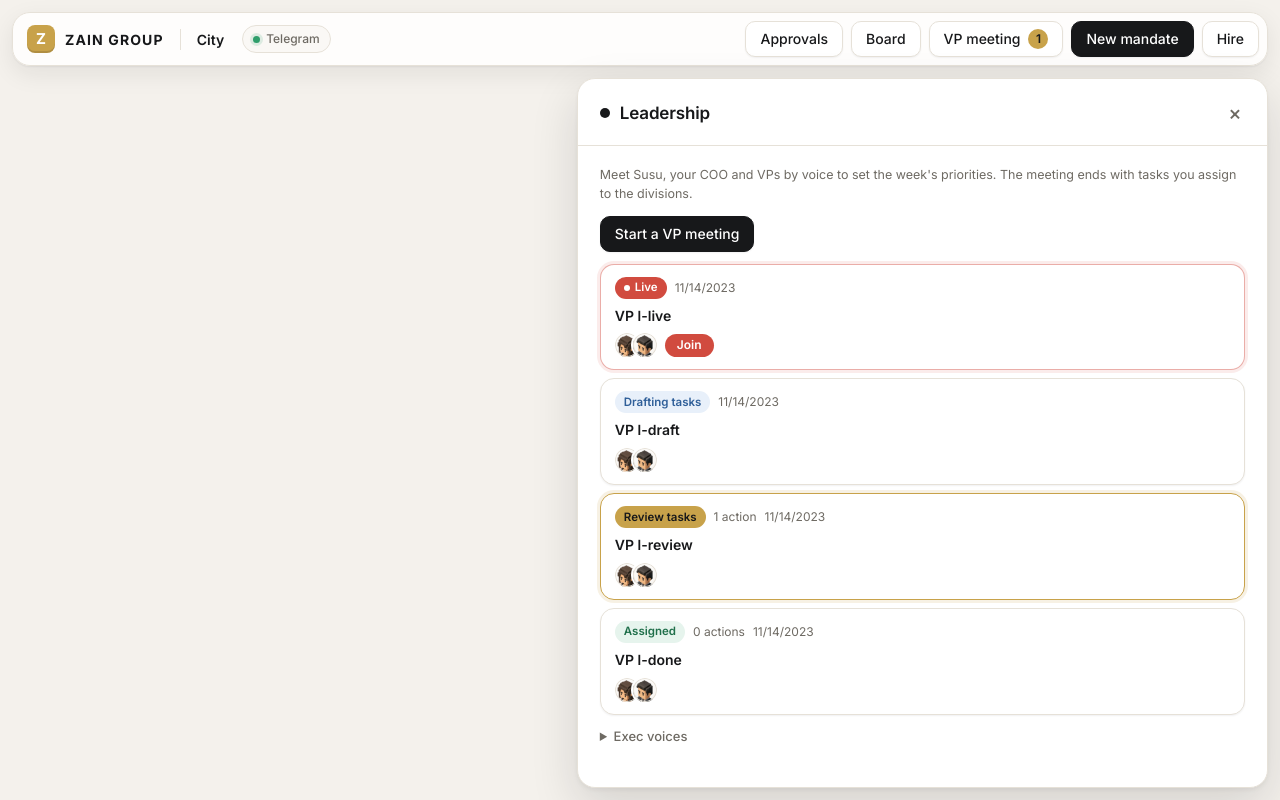
Start a VP meeting › prefills the weekly topic and every hired seat, and disables unhired seats
The width and height of the screenshot is (1280, 800).
Click the button "Start a VP meeting" at (677, 234), box [600,216,754,252]
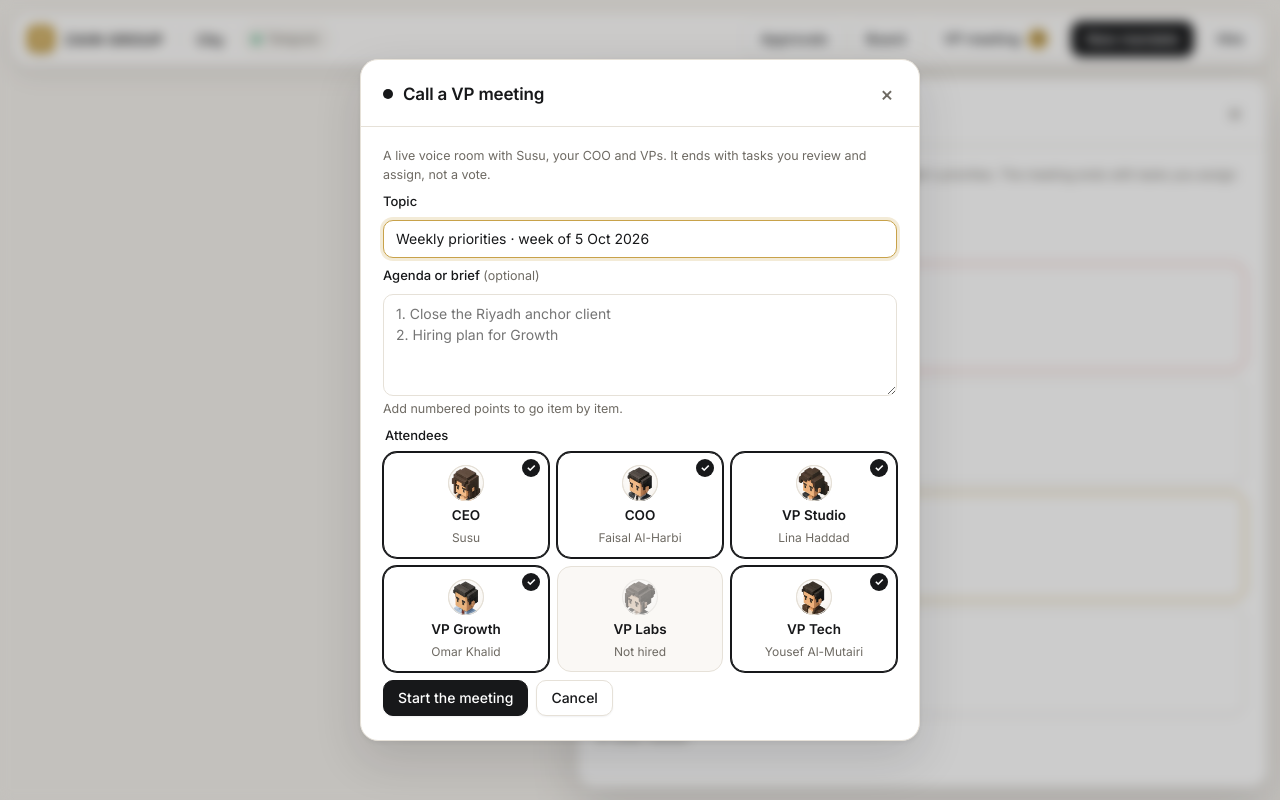
expect the text "Add numbered points to go item by item." is shown: met, box [383,400,623,416]
expect the checkbox labelled "VP Labs Not hired" is disabled: met, box [557,566,723,672]
expect the checkbox labelled "CEO Susu" is checked: met, box [383,452,549,558]
